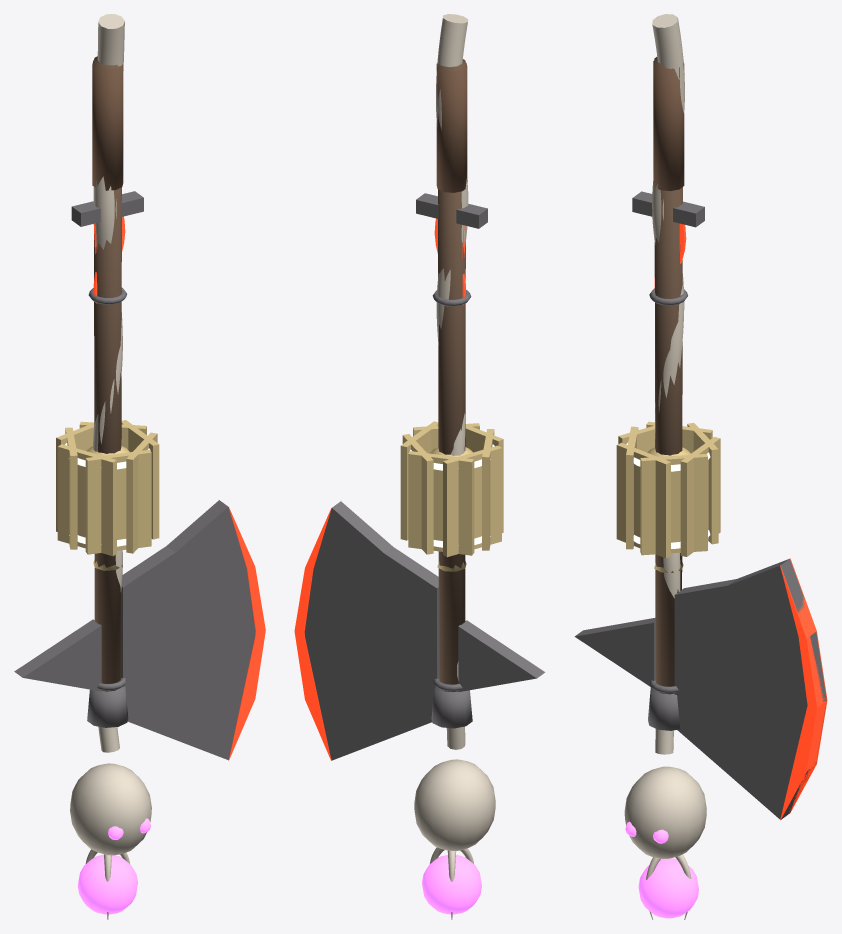
File: weapons.glb
3 renders of one model, left to right at view 1: azimuth 30°, elevation 25°; view 2: azimuth 150°, elevation 25°; view 3: azimuth 330°, elevation 25°, orthographic.
Parts seen in each view (by area): view 1: axe_head, axe_haft, staff_skull, staff_shaft, mace_flange2, axe_grip, mace_flange3, axe_spike, staff_orb, axe_edge, mace_flange1, axe_cap (+4 smaller); view 2: axe_head, axe_haft, staff_skull, mace_flange5, axe_grip, axe_spike, mace_flange4, staff_shaft, staff_orb, axe_edge, mace_flange6, axe_cap (+4 smaller); view 3: axe_head, axe_haft, staff_skull, staff_shaft, axe_edge, mace_flange1, axe_grip, mace_flange2, axe_spike, staff_orb, mace_flange0, mace_flange6 (+3 smaller).
Part boxes in pixels (<box>): axe_head: <box>121,500,255,759</box>; axe_haft: <box>93,56,121,691</box>; staff_skull: <box>70,763,151,855</box>; staff_shaft: <box>93,14,124,752</box>; mace_flange2: <box>85,449,151,554</box>; axe_grip: <box>92,60,123,190</box>; mace_flange3: <box>57,444,116,556</box>; axe_spike: <box>14,619,101,691</box>; staff_orb: <box>78,854,137,914</box>; axe_edge: <box>228,507,265,760</box>; mace_flange1: <box>126,432,157,553</box>; axe_cap: <box>87,686,128,727</box>; axe_head: <box>304,501,438,760</box>; axe_haft: <box>438,59,466,692</box>; staff_skull: <box>414,759,495,850</box>; mace_flange5: <box>408,451,474,555</box>; axe_grip: <box>436,63,467,192</box>; axe_spike: <box>458,620,545,692</box>; mace_flange4: <box>443,445,501,557</box>; staff_shaft: <box>436,14,468,749</box>; staff_orb: <box>422,855,481,914</box>; axe_edge: <box>294,508,331,760</box>; mace_flange6: <box>402,434,433,554</box>; axe_cap: <box>431,687,472,728</box>; axe_head: <box>674,558,826,819</box>; axe_haft: <box>654,57,682,694</box>; staff_skull: <box>624,766,706,858</box>; staff_shaft: <box>652,14,684,754</box>; axe_edge: <box>780,558,827,820</box>; mace_flange1: <box>640,454,707,555</box>; axe_grip: <box>653,61,684,190</box>; mace_flange2: <box>616,442,670,558</box>; axe_spike: <box>574,618,655,687</box>; staff_orb: <box>638,858,698,918</box>; mace_flange0: <box>680,437,720,556</box>; mace_flange6: <box>687,422,718,544</box>.
Size of the model in its own units: 0.46 by 1.62 by 0.1718.
